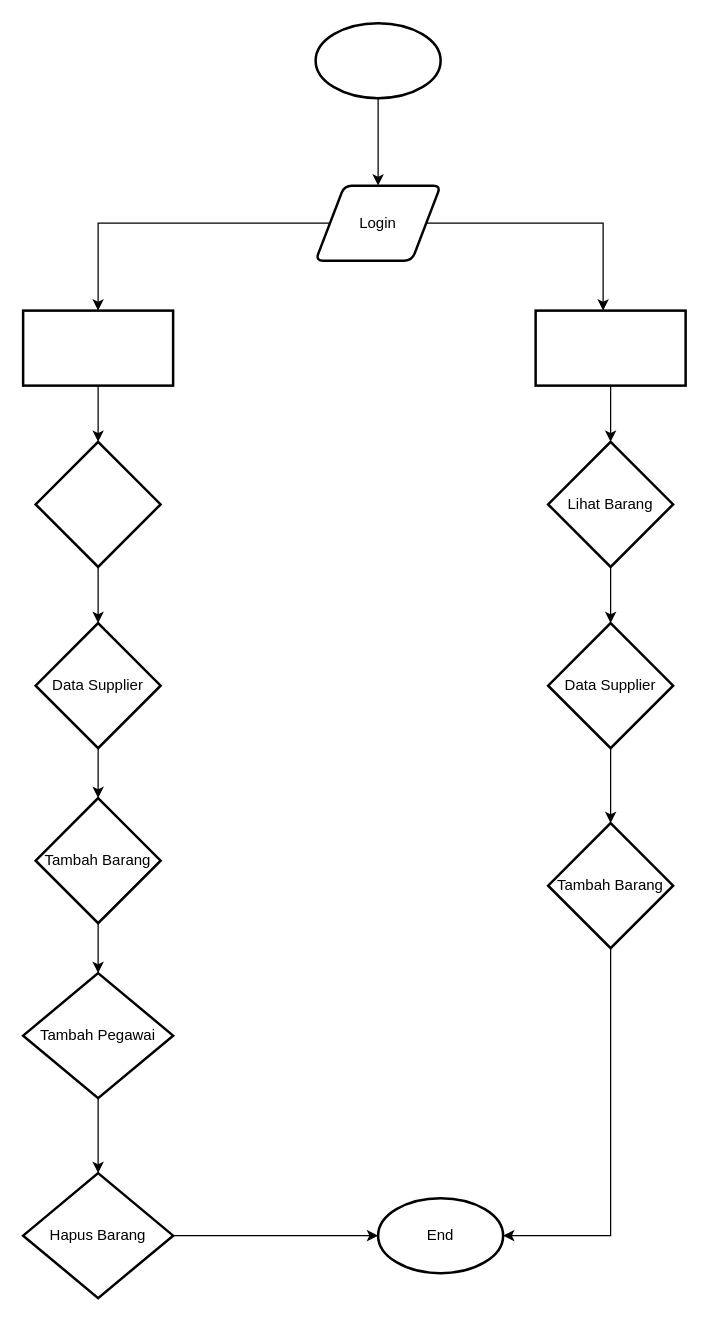
This 708x1320 diagram has some shape labels left out. Here are the shapes that lost their labels. From the top down, the centre of each, then its label:
At point (377, 60): "Star".
At point (97, 347): "Admin".
At point (610, 347): "Pengguna".
At point (97, 504): "Input Barang".
